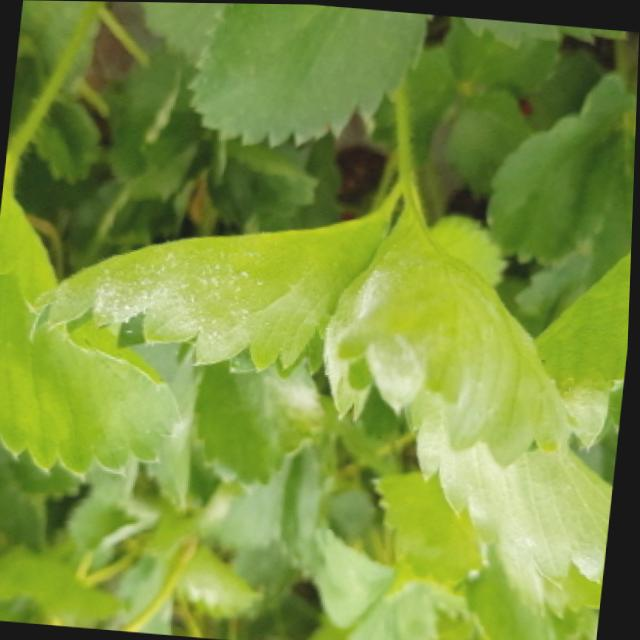Powdery Mildew Leaf: (23, 188, 401, 378), (324, 202, 587, 470), (401, 392, 616, 617)
